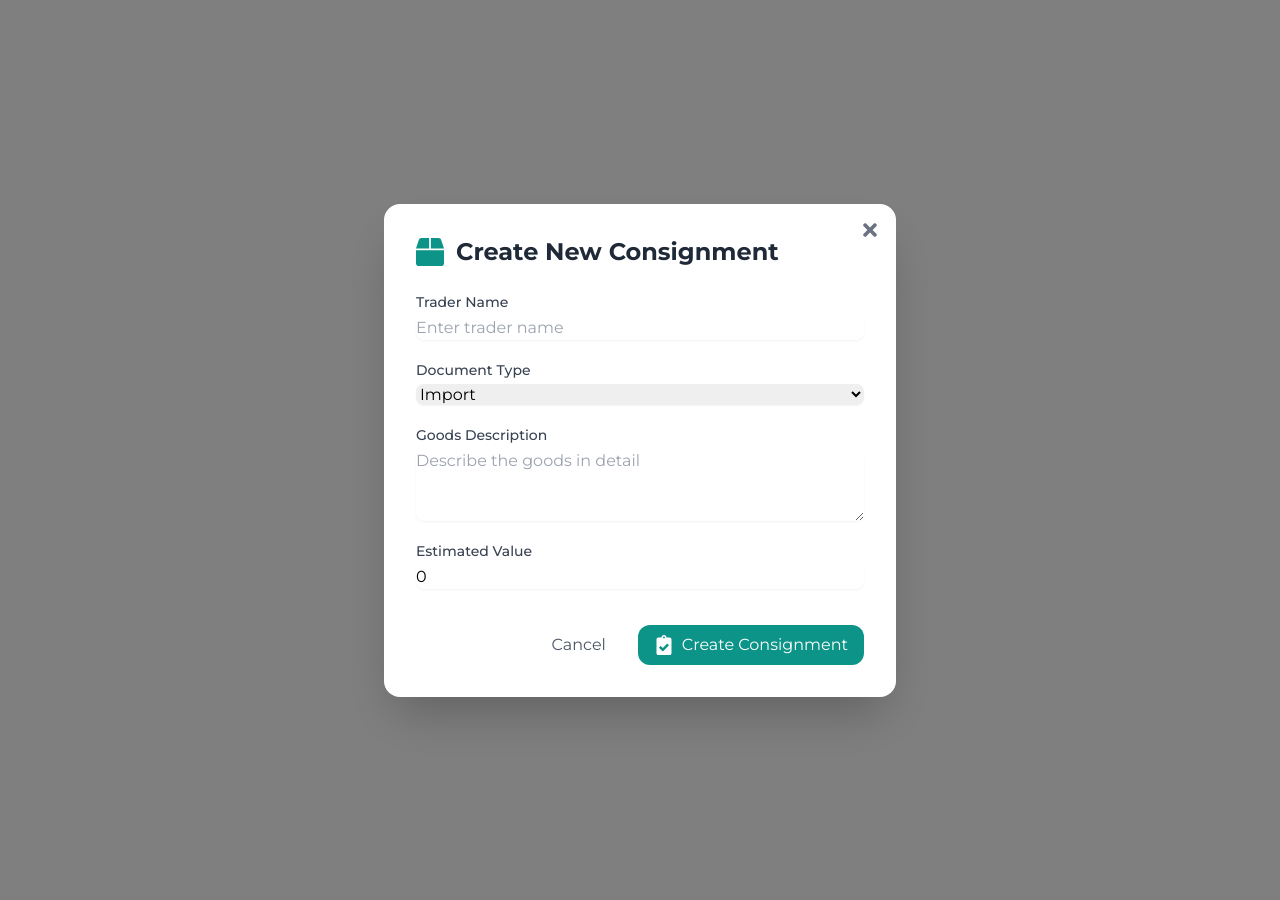
ConsignmentCreationModal validation › shows a submit error and keeps the form open when the save fails
Type "Acme Traders" into the field with placeholder "Enter trader name".
click(640, 328); type("Acme Traders")  # box [416,316,864,340]
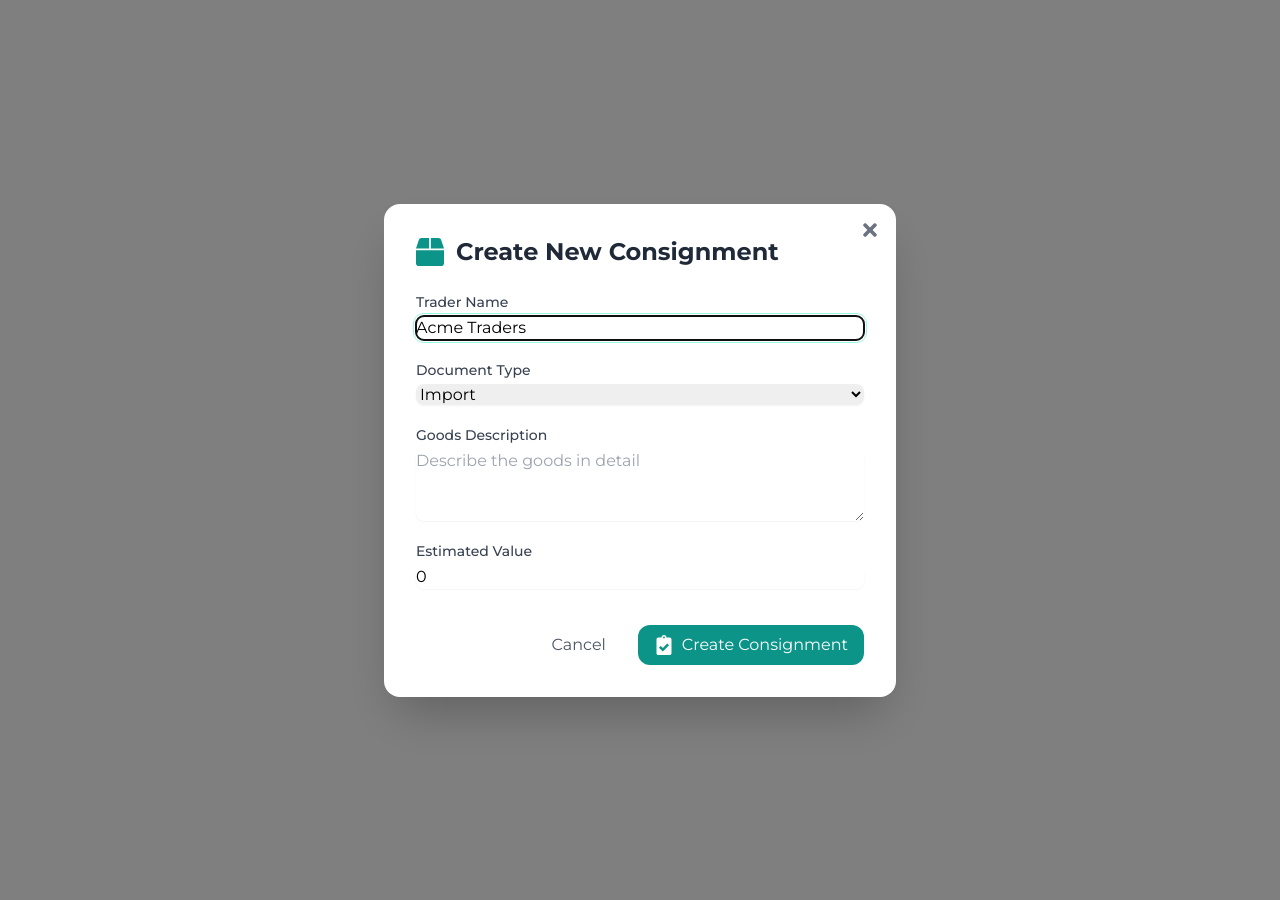
Type "Ten crates of ceramic tiles" into the text box with placeholder "Describe the goods in detail".
click(640, 484); type("Ten crates of ceramic tiles")  # box [416,448,864,520]
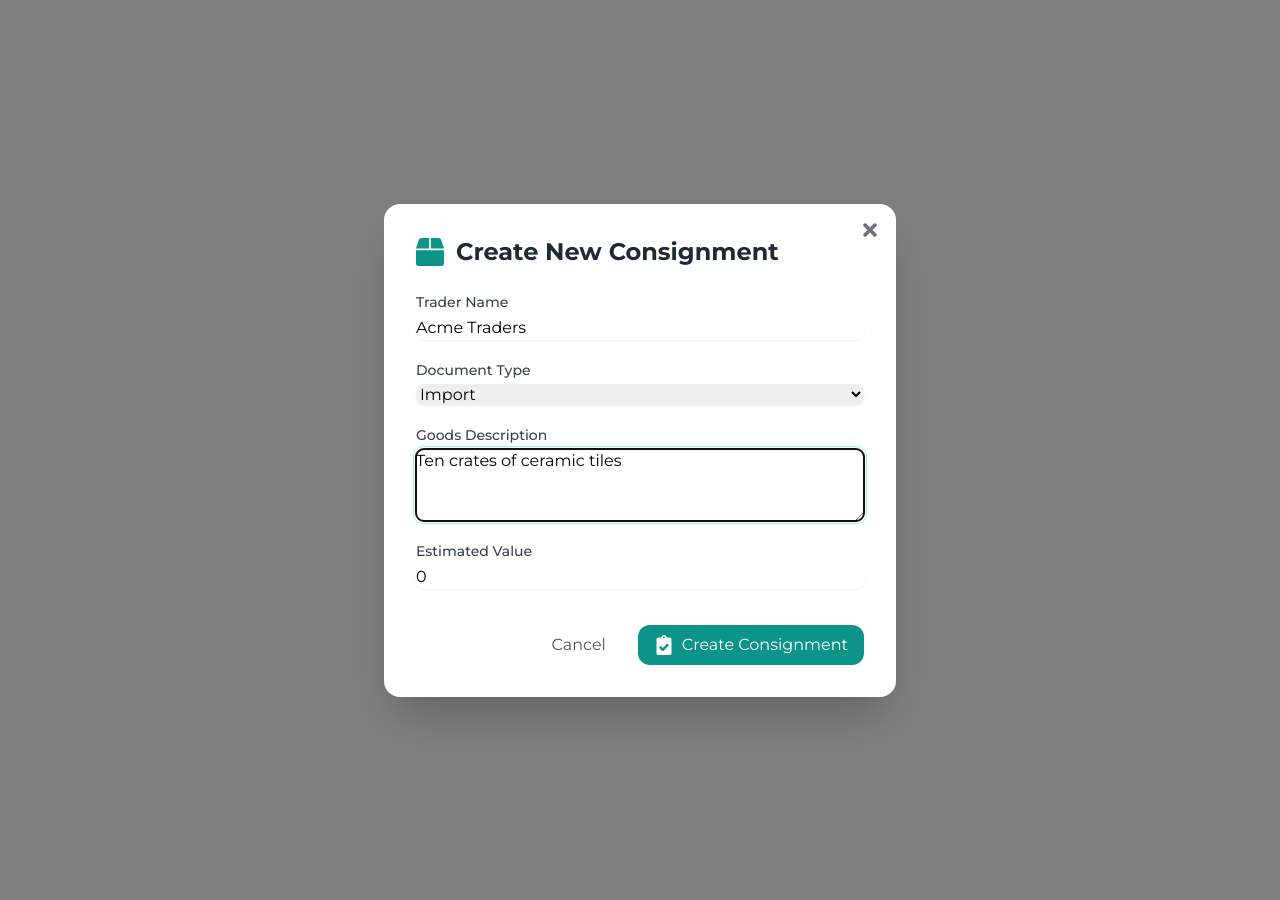
Replace the text in the number field with placeholder "Enter estimated value" with "500" at point(640, 576), box [416,564,864,588]
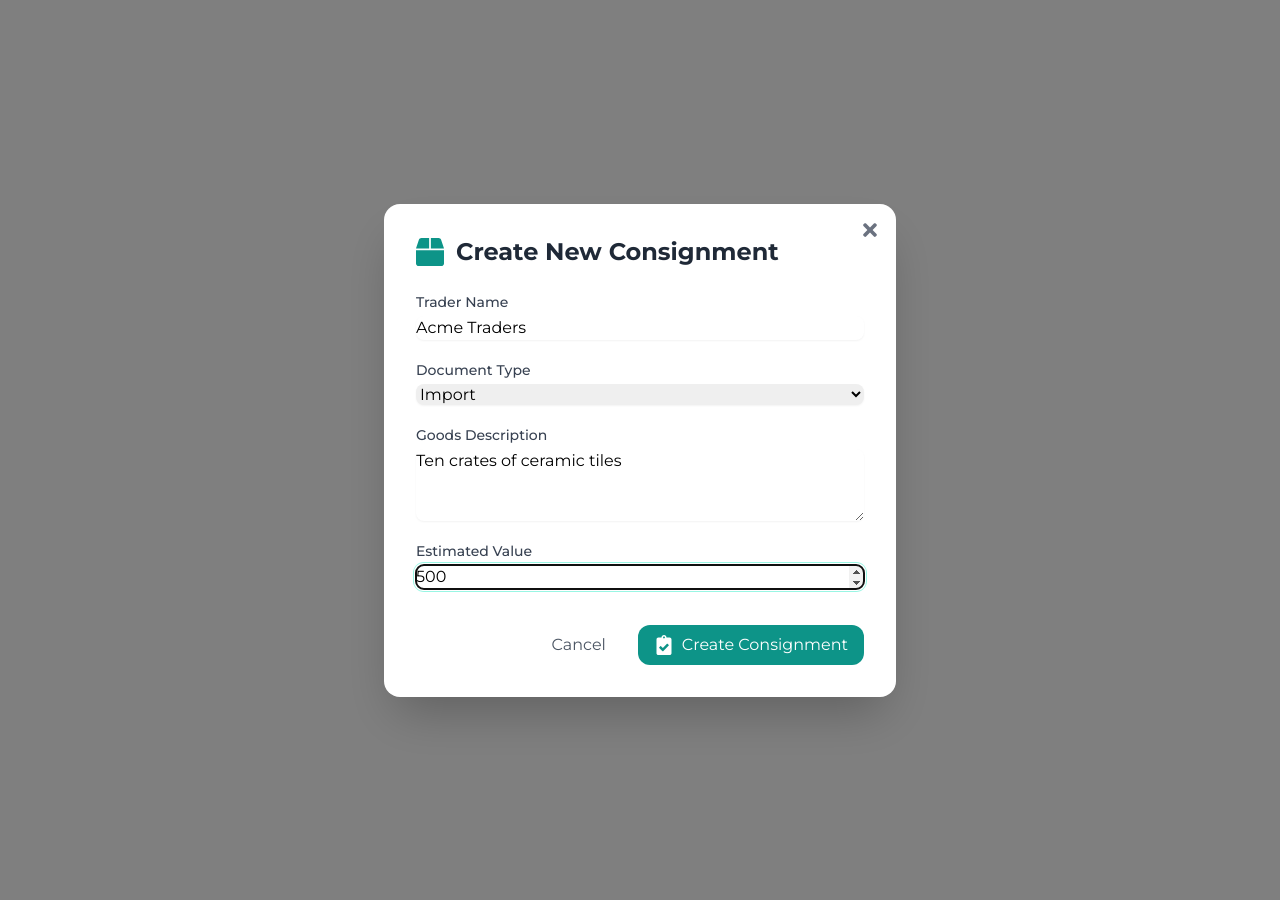
Click the button "Create Consignment".
click(751, 644)  # box [638,624,864,664]
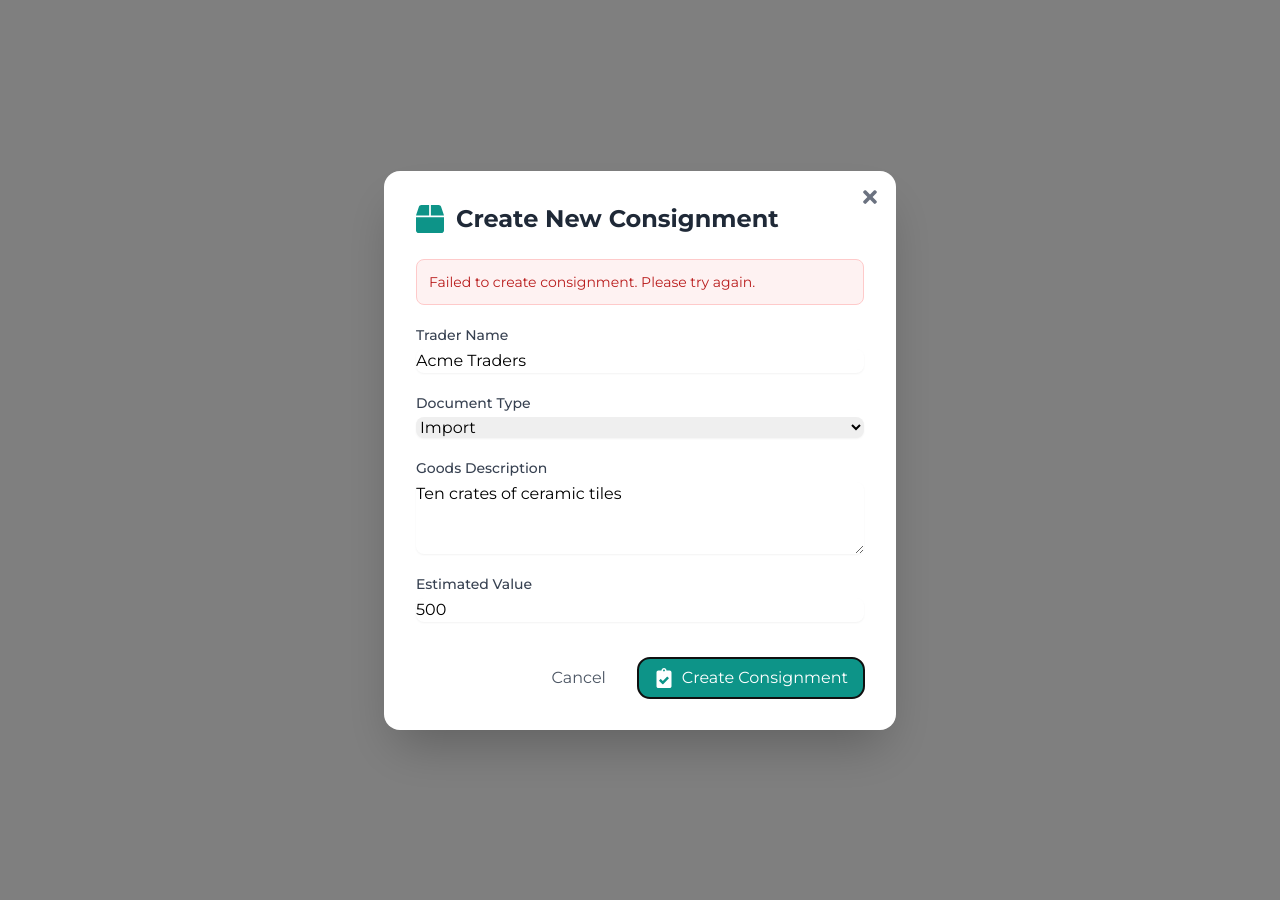
Expected: the text "Failed to create consignment. Please try again." is shown, [416,258,864,304]
